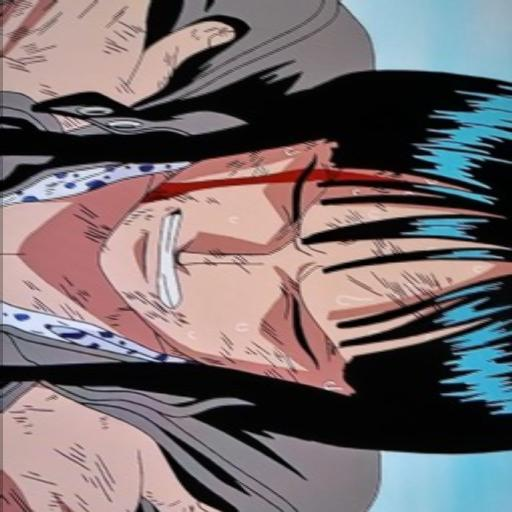NicoRobin: (85, 55, 512, 460)
